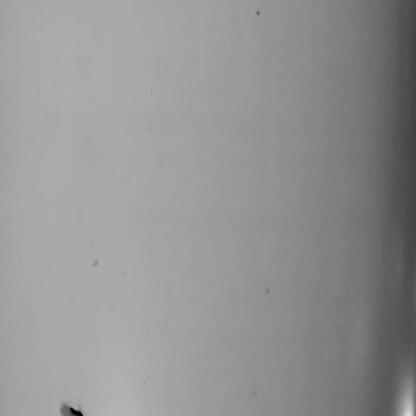kongdong: (43, 403, 92, 416)
